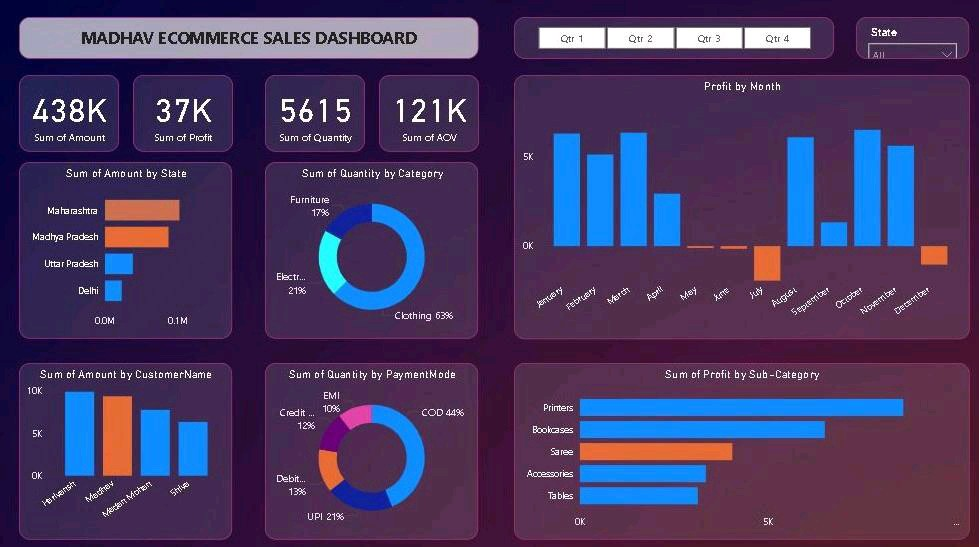

The page's visual inventory and layout, read from the dashboard file:
{"tool":"powerbi","page":{"name":"Page 1","canvas":[1280,720],"ordinal":0},"visuals":[{"type":"textbox","box":[35.3,25.2,593,53.8],"z":0},{"type":"columnChart","title":"Profit by Month","fields":{"Y":["Details.Profit"],"Category":["Orders.Order Date.Variation.Date Hierarchy.Month"]},"box":[673.6,100.8,587.9,341],"z":1000},{"type":"barChart","fields":{"Category":["Details.Sub-Category"],"Y":["Details.Profit"]},"box":[673.6,472,587.9,228.5],"z":2000},{"type":"donutChart","fields":{"Y":["Details.Quantity"],"Category":["Details.PaymentMode"]},"box":[352.8,472,275.5,228.5],"z":3000},{"type":"donutChart","fields":{"Category":["Details.Category"],"Y":["Details.Quantity"]},"box":[352.8,213.3,275.5,228.5],"z":4000},{"type":"card","fields":{"Values":["Details.Amount"]},"box":[35.3,100.8,129.3,99.1],"z":5000},{"type":"card","fields":{"Values":["Details.Profit"]},"box":[181.4,100.8,129.3,99.1],"z":6000},{"type":"card","fields":{"Values":["Details.Quantity"]},"box":[352.8,100.8,129.3,99.1],"z":7000},{"type":"card","fields":{"Values":["Details.AOV"]},"box":[498.9,100.8,129.3,99.1],"z":8000},{"type":"barChart","fields":{"Category":["Orders.State"],"Y":["Details.Amount"]},"box":[35.3,213.3,275.5,228.5],"z":9000},{"type":"columnChart","fields":{"Category":["Orders.CustomerName"],"Y":["Details.Amount"]},"box":[35.3,472,275.5,228.5],"z":10000},{"type":"slicer","fields":{"Values":["Orders.Order Date.Variation.Date Hierarchy.Quarter"]},"box":[673.6,25.2,413.2,53.8],"z":11000},{"type":"slicer","fields":{"Values":["Orders.State"]},"box":[1115.4,25.2,146.1,53.8],"z":12000}]}

Visuals, with their boxes in screenshot pixels (x1, y1, x2, y2), scaled from the page's 1280x720 canvas onto the 979x547 screenshot:
textbox: [27, 19, 481, 60]
"Profit by Month" columnChart: [515, 77, 965, 336]
barChart - Details.Sub-Category x Details.Profit: [515, 359, 965, 532]
donutChart - Details.Quantity x Details.PaymentMode: [270, 359, 481, 532]
donutChart - Details.Category x Details.Quantity: [270, 162, 481, 336]
card - Details.Amount: [27, 77, 126, 152]
card - Details.Profit: [139, 77, 238, 152]
card - Details.Quantity: [270, 77, 369, 152]
card - Details.AOV: [382, 77, 480, 152]
barChart - Orders.State x Details.Amount: [27, 162, 238, 336]
columnChart - Orders.CustomerName x Details.Amount: [27, 359, 238, 532]
slicer - Orders.Order Date.Variation.Date Hierarchy.Quarter: [515, 19, 831, 60]
slicer - Orders.State: [853, 19, 965, 60]
